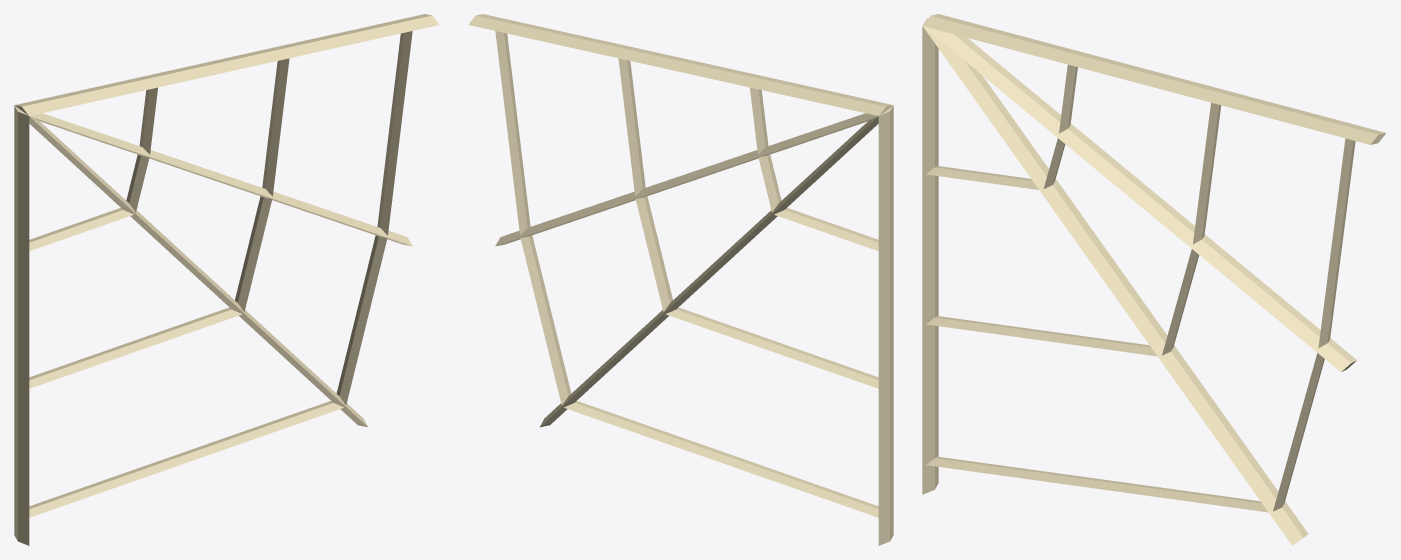
File: WarrensC_WVC073_CobwebCorner_Mars_SM.fbx
The picture shows the model from 3 angles, left to right: view 1: azimuth 30°, elevation 25°; view 2: azimuth 150°, elevation 25°; view 3: azimuth 330°, elevation 25°; orthographic projection. The views are drawn at different scales.
Visible parts, largest first — view 1: WarrensC_WVC073_CobwebCorner_Mars_SM.001; view 2: WarrensC_WVC073_CobwebCorner_Mars_SM.001; view 3: WarrensC_WVC073_CobwebCorner_Mars_SM.001.
Part boxes in pixels (x1=…): WarrensC_WVC073_CobwebCorner_Mars_SM.001: x1=14, y1=14, x2=439, y2=545; WarrensC_WVC073_CobwebCorner_Mars_SM.001: x1=468, y1=14, x2=893, y2=545; WarrensC_WVC073_CobwebCorner_Mars_SM.001: x1=922, y1=14, x2=1385, y2=545.
Bounding box in the file's own units: 80 × 5 × 80.
